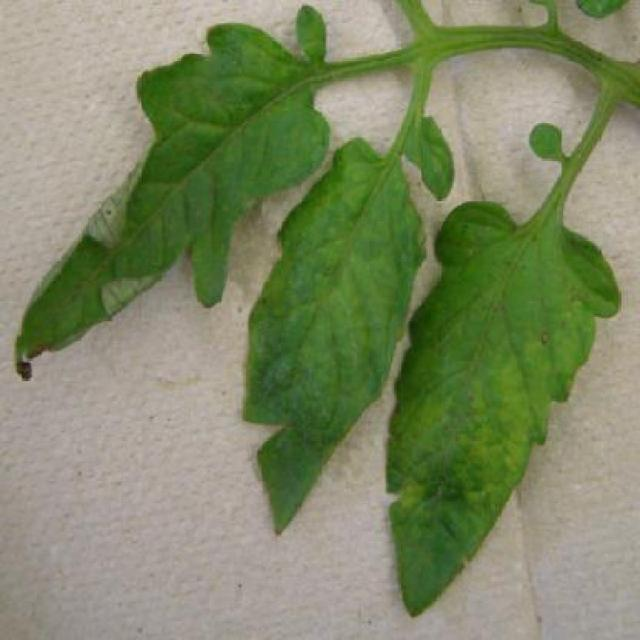Healthy Leaf: (4, 20, 324, 382), (380, 183, 628, 628), (255, 151, 417, 537)
